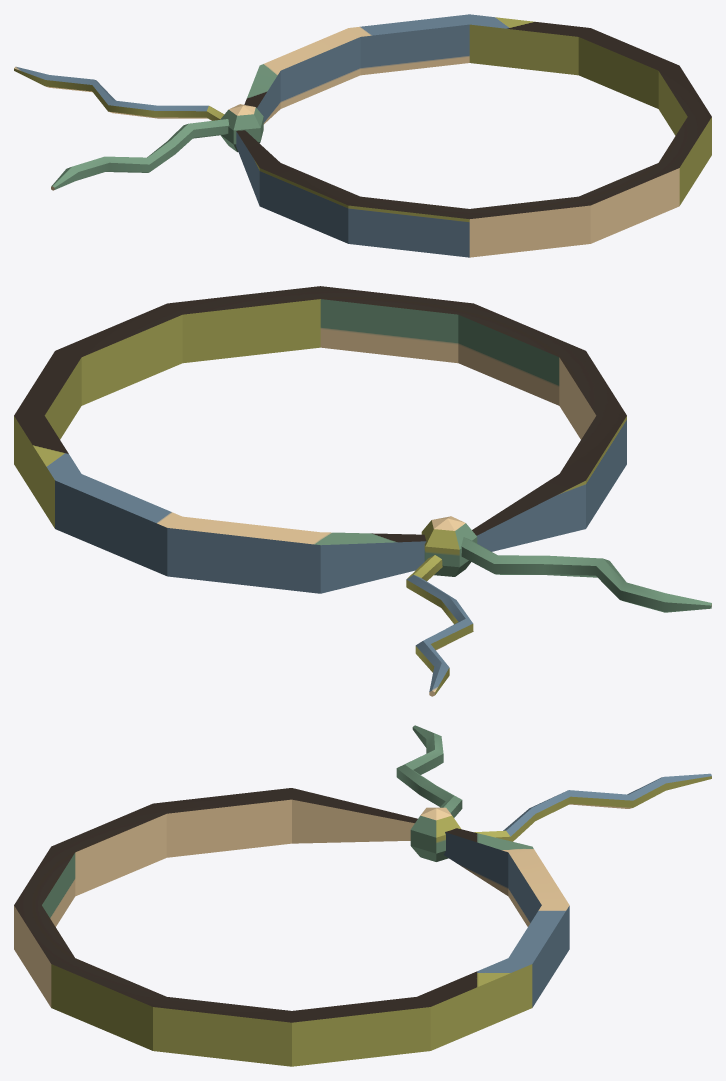
File: pulsera2contextura.fbx
3 views of the same model, one above another, from view 1: azimuth 30°, elevation 25°; view 2: azimuth 150°, elevation 25°; view 3: azimuth 270°, elevation 25° (orthographic). The views are drawn at different scales.
Parts seen in each view (by area): view 1: pPipe1; view 2: pPipe1; view 3: pPipe1.
Part boxes in pixels (x1,y1,x2,y2): pPipe1: (14,14,711,257); pPipe1: (14,286,711,696); pPipe1: (14,725,711,1066).
Bounding box in the file's own units: 0.8624 × 0.0647 × 0.7924.
Materials: 1 (1 with a texture image).
